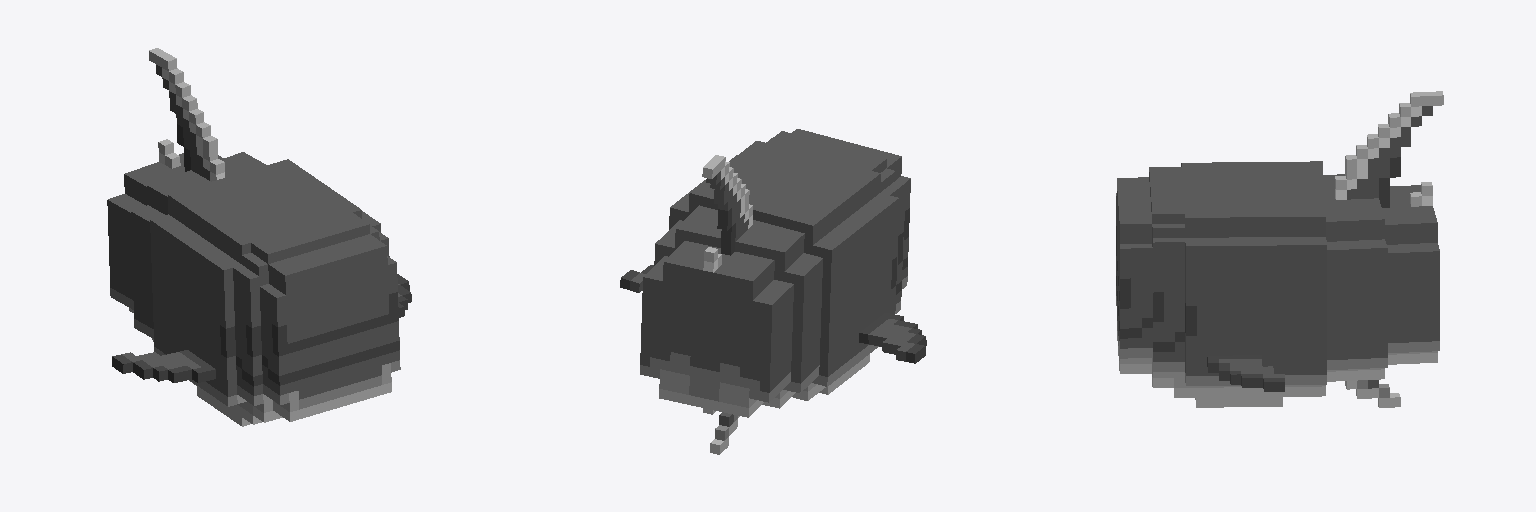
3 views of the same model, side by side, from view 1: azimuth 30°, elevation 25°; view 2: azimuth 150°, elevation 25°; view 3: azimuth 270°, elevation 25° (orthographic).
Visible parts, largest first — view 1: Model; view 2: Model; view 3: Model.
Part boxes in pixels (x1,y1,x2,y2): Model: (107, 48, 411, 426); Model: (620, 129, 926, 454); Model: (1116, 91, 1443, 407).
Bounding box in the file's own units: 31.01 × 31.01 × 30.14.
1 materials, 1 textured.